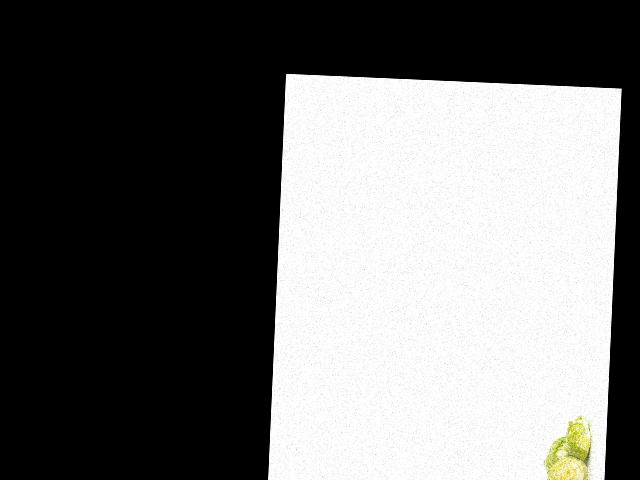lettuce: (541, 431, 573, 479)
